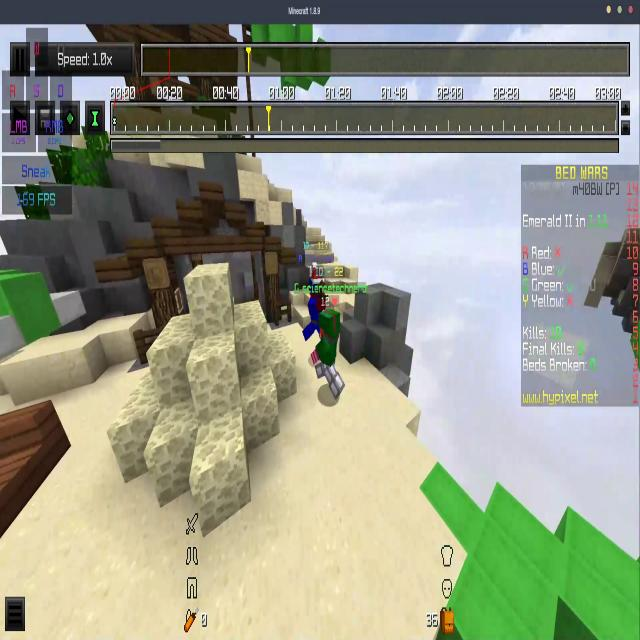Player: (311, 292, 348, 403), (302, 280, 324, 342)
